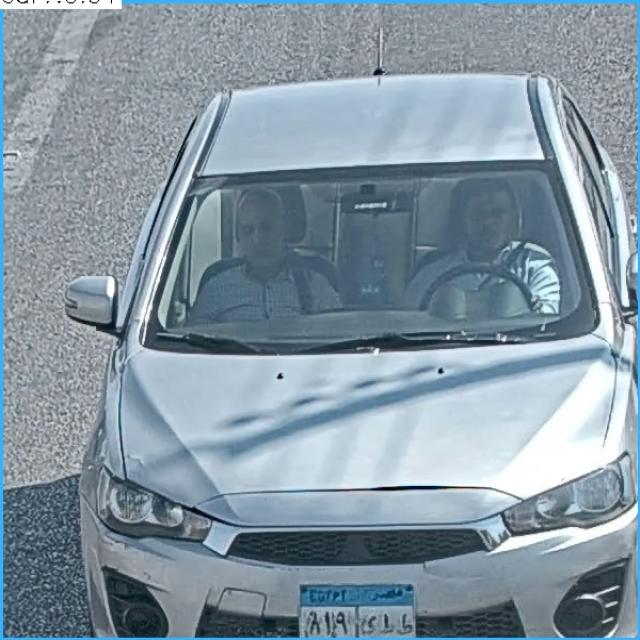windshield: (140, 185, 593, 336)
